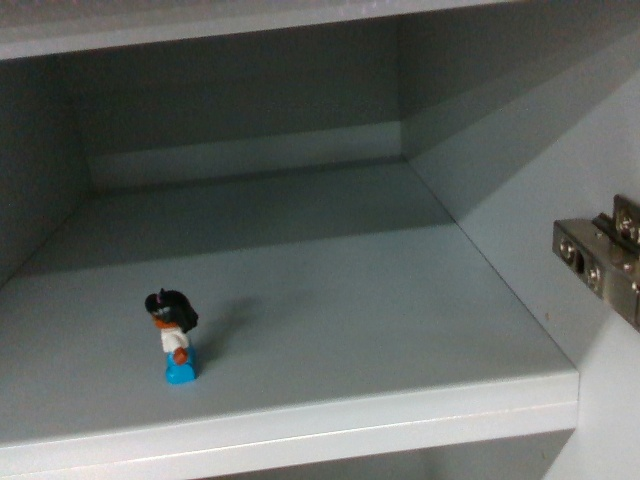people: (143, 284, 202, 387)
